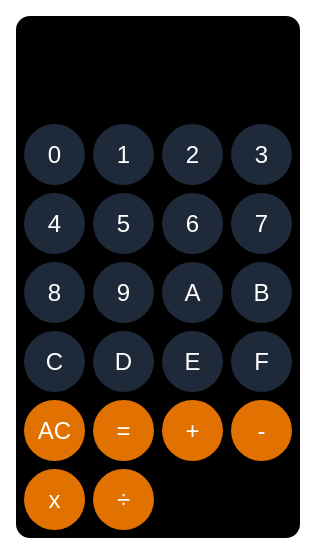
Hexadecimal Calculator › updates display when buttons are clicked
Click the button "A": [192, 292] box 162,262 -> 223,323
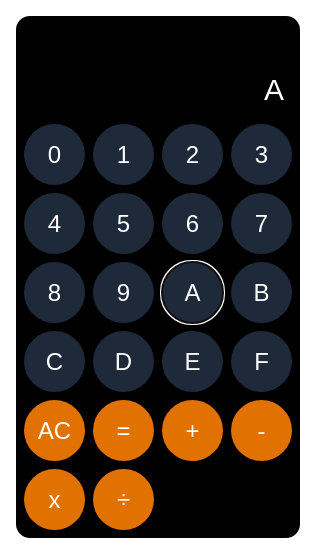
Click the button "+": [192, 430] box 162,400 -> 223,461
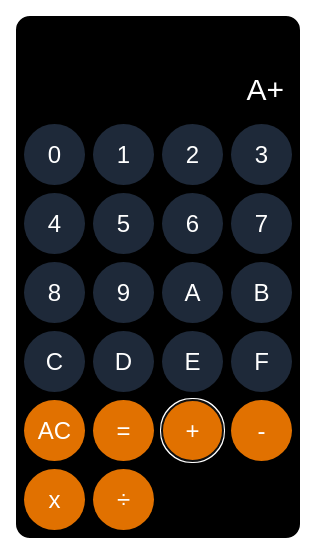
Click the button "1": [124, 154] box 93,124 -> 154,185
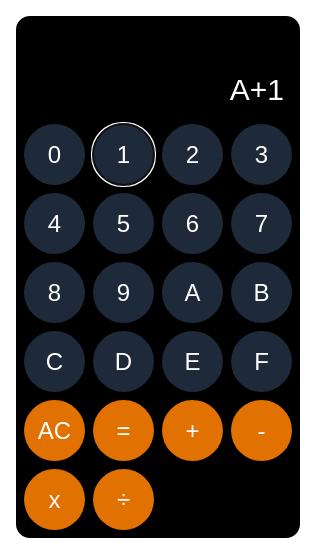
Expected: the text "A+1" is shown, 230,73 -> 284,106
